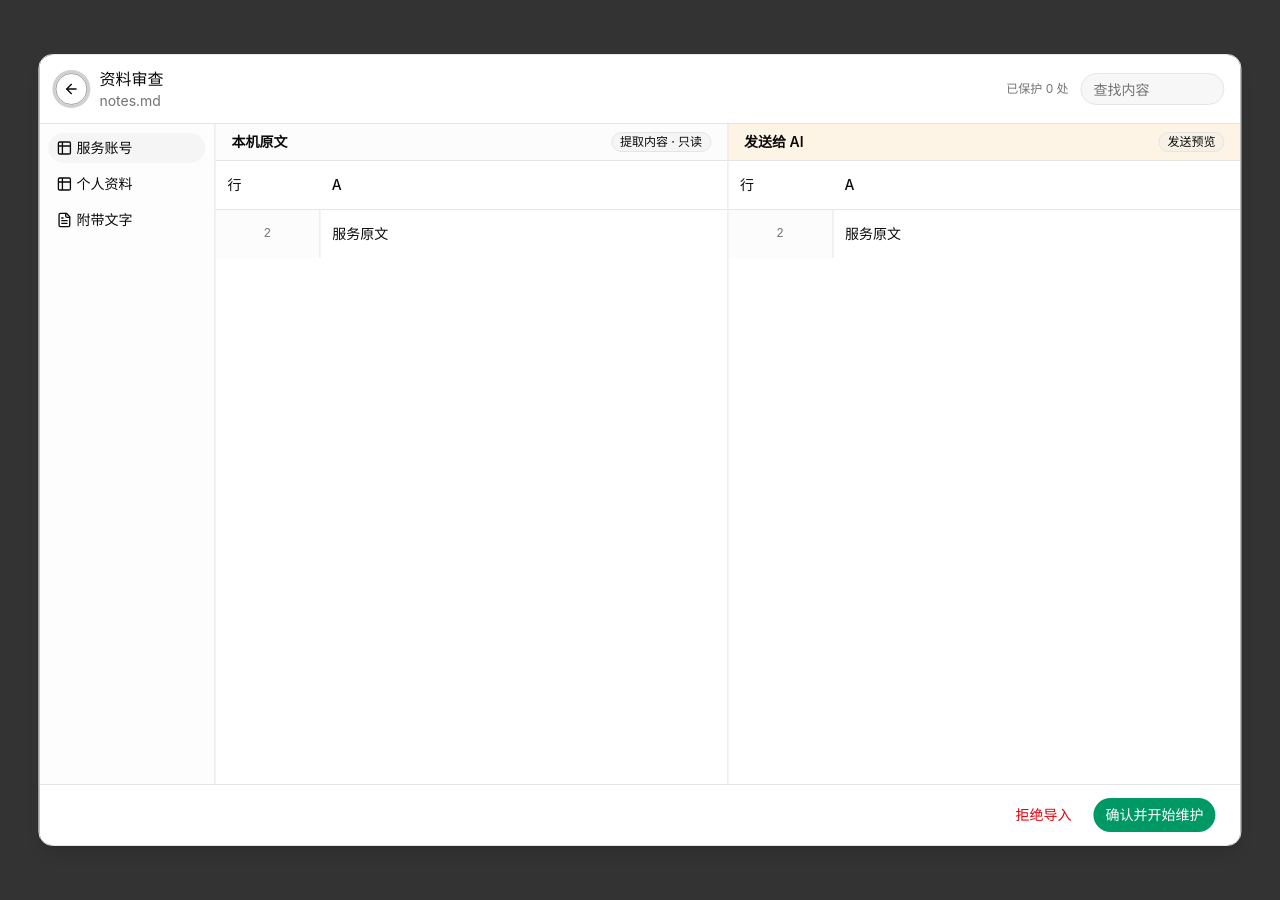
Test: uses one directory for sheets and attached text, without separate document modes
The width and height of the screenshot is (1280, 900).
Expected: the navigation bar named "审查目录" reads "服务账号 个人资料 附带文字", [39, 124, 215, 784]
Step 1. Click the 1st button "服务原文" → [360, 233], box [320, 210, 727, 258]
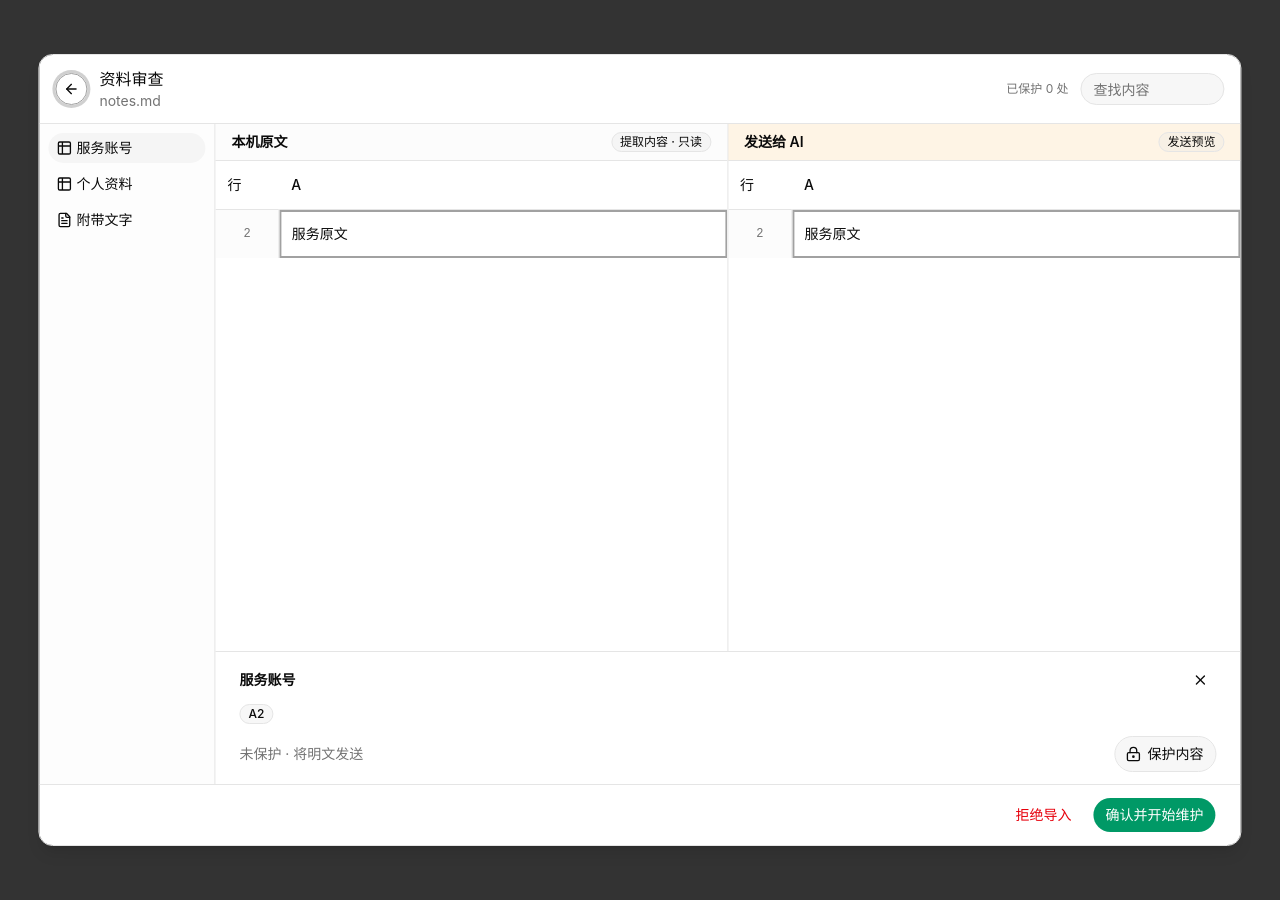
Result: the element named "所选内容与保存设置" is shown at [215, 651, 1241, 784]
Step 2. Click the button "个人资料" → [127, 184], box [47, 168, 206, 200]
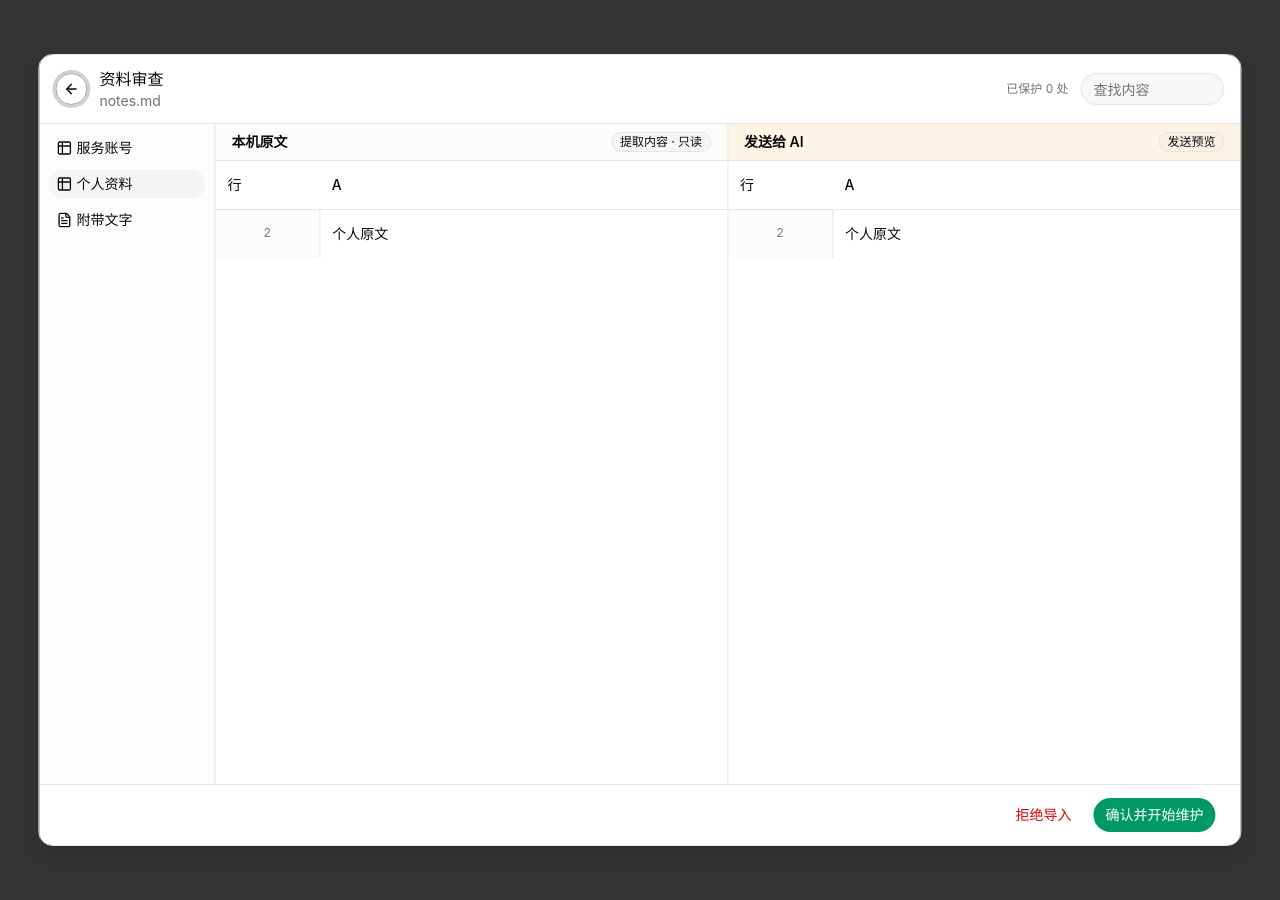
Result: the element named "所选内容与保存设置" is gone
Result: the element showing "行 A 2 个人原文" is shown at [215, 161, 727, 258]
Step 3. Click the button "附带文字" → [127, 220], box [47, 204, 206, 236]
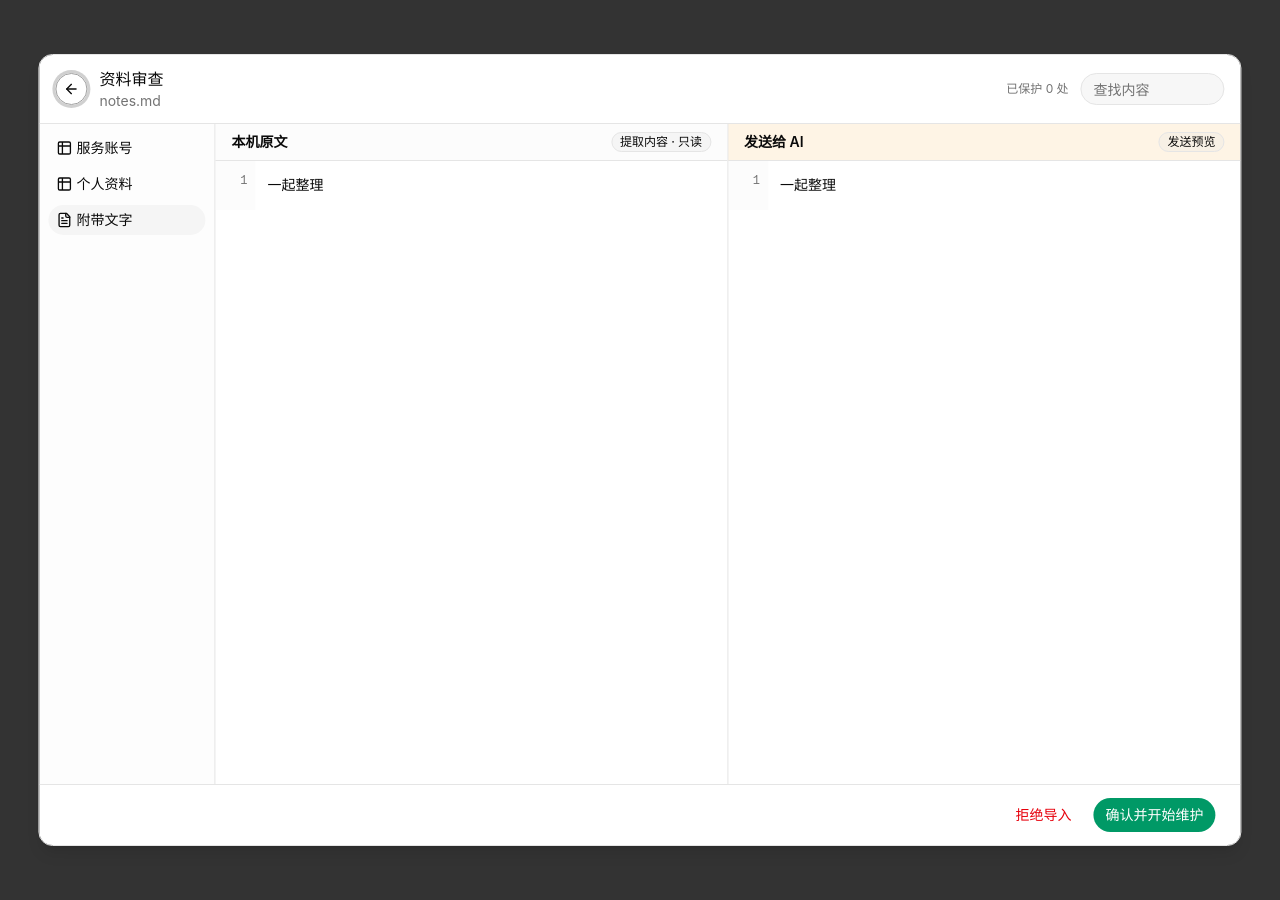
Result: the element showing "1 一起整理" is shown at [215, 161, 727, 210]
